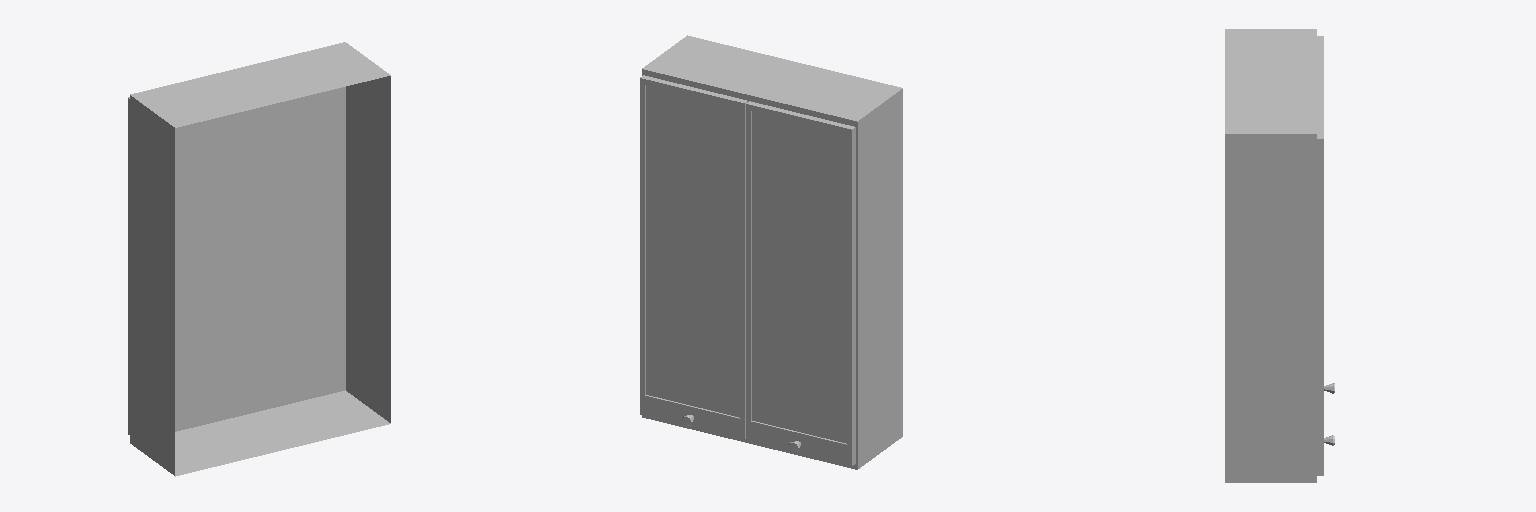
File: Bath_closet.obj
3 renders of one model, left to right at view 1: azimuth 30°, elevation 25°; view 2: azimuth 150°, elevation 25°; view 3: azimuth 270°, elevation 25°, orthographic.
Visible parts, largest first — view 1: Bath_Closet_LOD0_Cube.005; view 2: Bath_Closet_LOD0_Cube.005; view 3: Bath_Closet_LOD0_Cube.005.
Part boxes in pixels (x1,y1,x2,y2): Bath_Closet_LOD0_Cube.005: (128,42,390,476); Bath_Closet_LOD0_Cube.005: (640,35,902,469); Bath_Closet_LOD0_Cube.005: (1225,29,1334,482).
Size of the model in its own units: 0.6815 by 1.05 by 0.2989.